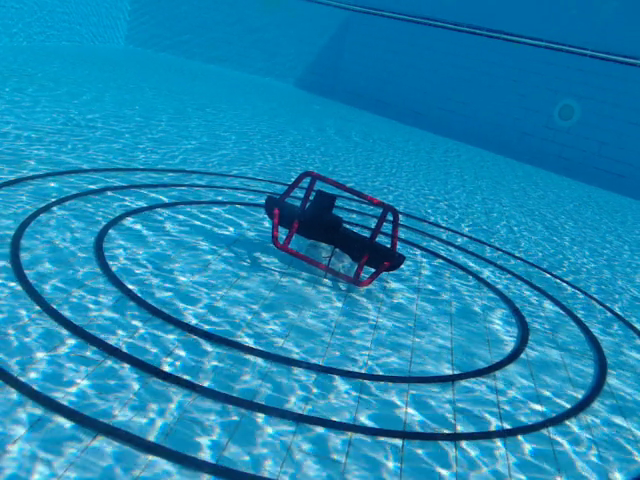submarine: (263, 169, 409, 289)
